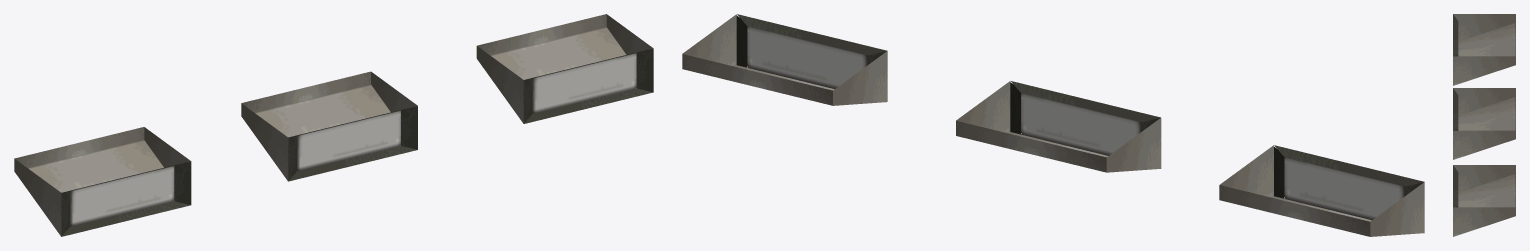
File: searchlights.fbx
3 views of the same model, side by side, from view 1: azimuth 30°, elevation 25°; view 2: azimuth 150°, elevation 25°; view 3: azimuth 270°, elevation 25° (orthographic). The views are drawn at different scales.
Visible parts, largest first — view 1: Cube.010, Cube.009, Cube; view 2: Cube, Cube.009, Cube.010; view 3: Cube, Cube.009, Cube.010.
Boxes of the visible parts, x1,y1,x2,y2 form: Cube.010: (14, 127, 191, 236); Cube.009: (476, 14, 653, 123); Cube: (241, 71, 417, 181); Cube: (956, 81, 1161, 172); Cube.009: (682, 14, 887, 105); Cube.010: (1219, 145, 1424, 236); Cube: (1453, 88, 1515, 159); Cube.009: (1453, 165, 1515, 236); Cube.010: (1453, 14, 1515, 85).
Size of the model in its own units: 2.28 by 0.3123 by 0.1621.
Materials: 1 (1 with a texture image).
